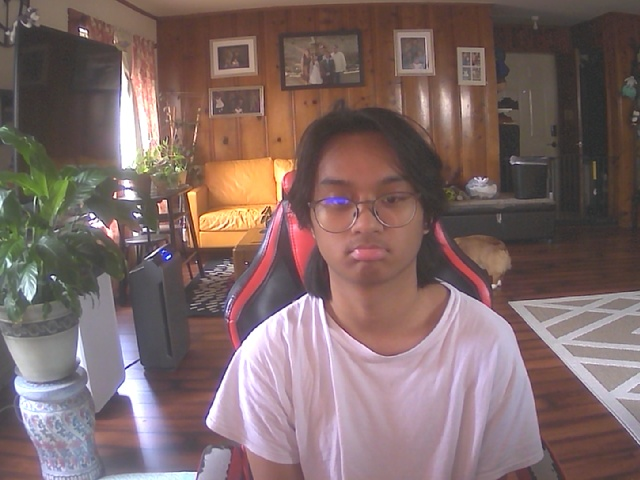sad: (303, 114, 437, 288)
